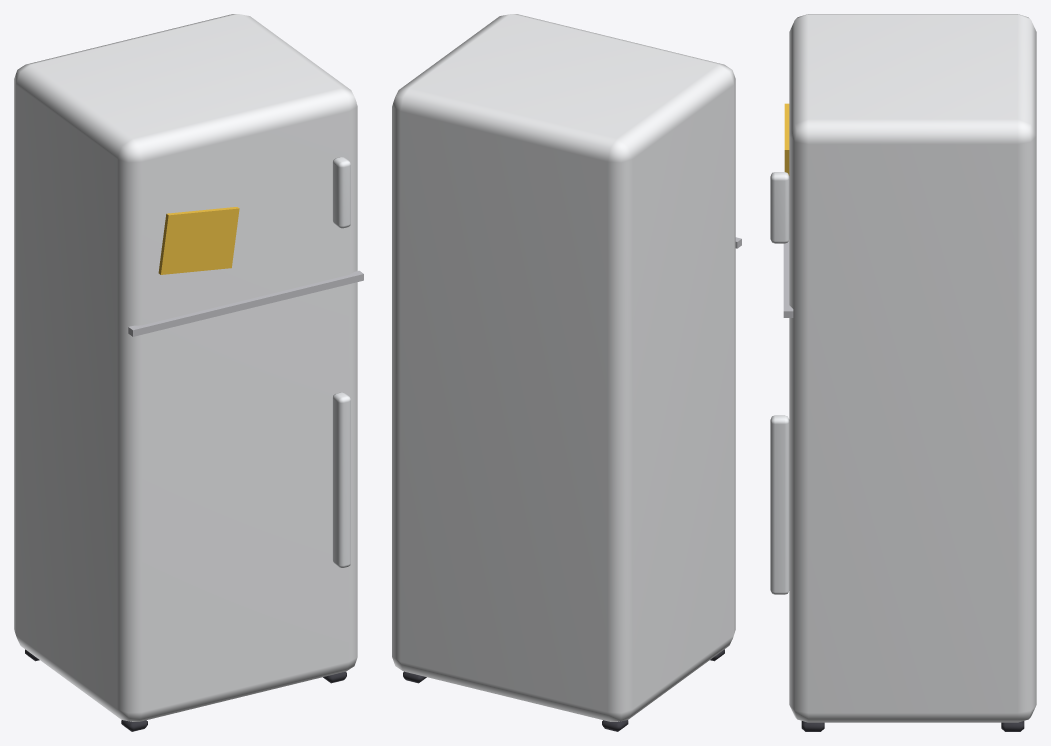
Rendered from Fridge.fbx.
3 renders of one model, left to right at view 1: azimuth 30°, elevation 25°; view 2: azimuth 150°, elevation 25°; view 3: azimuth 270°, elevation 25°, orthographic. The views are drawn at different scales.
Visible parts, largest first — view 1: Fridge; view 2: Fridge; view 3: Fridge.
Part boxes in pixels (x1,y1,x2,y2): Fridge: (14, 14, 363, 731); Fridge: (392, 14, 741, 731); Fridge: (770, 14, 1036, 731).
Size of the model in its own units: 3 by 7.1 by 2.8.
Materials: 1 (1 with a texture image).
